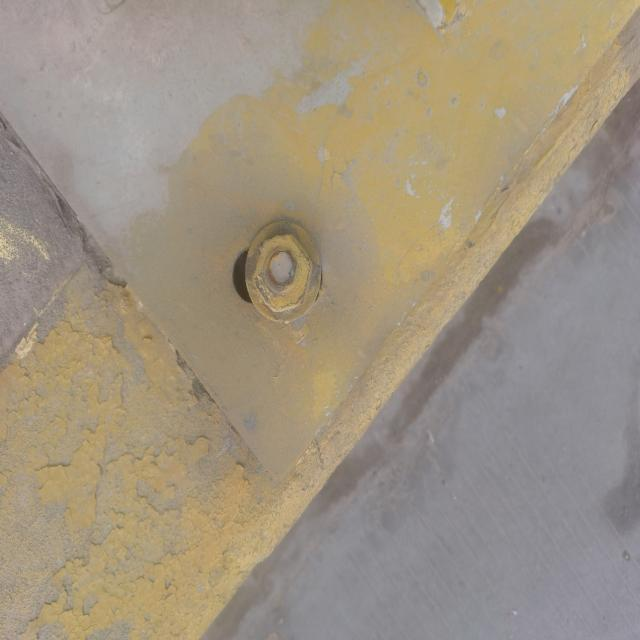bolt nut: (249, 230, 315, 316)
